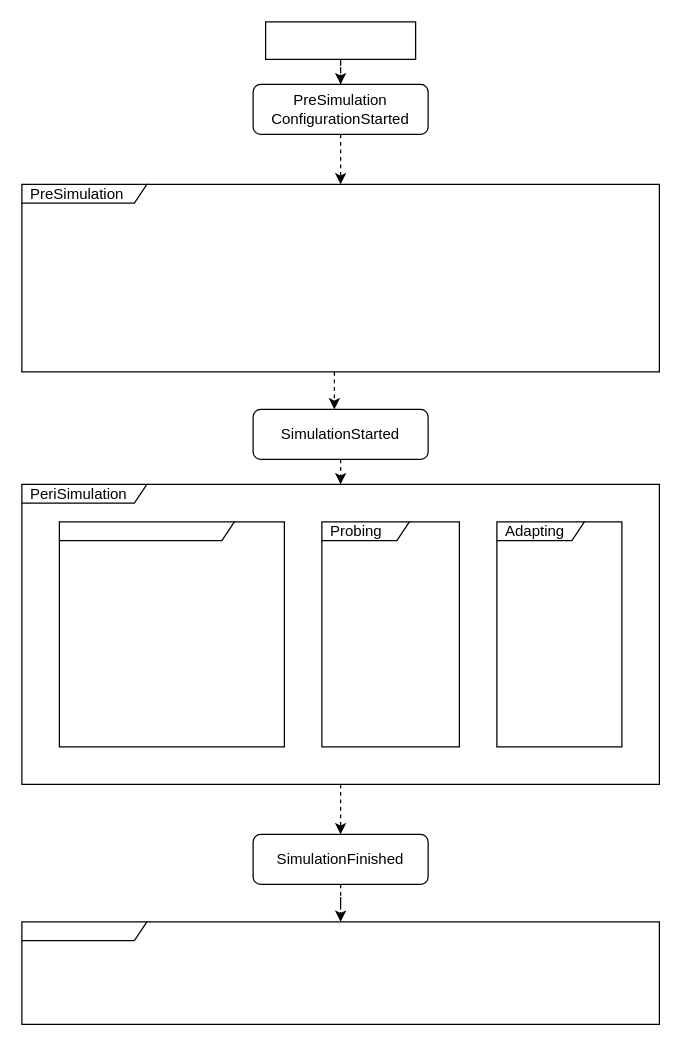
The diagram is 681 pixels wide and 1046 high, and some of its shapes have lost their labels. Here are the shapes that lost their labels. From the top down, the centre of each, then its label:
the point at 340,40: Core
the point at 171,634: SimulationProgression
the point at 340,972: PostSimulation
